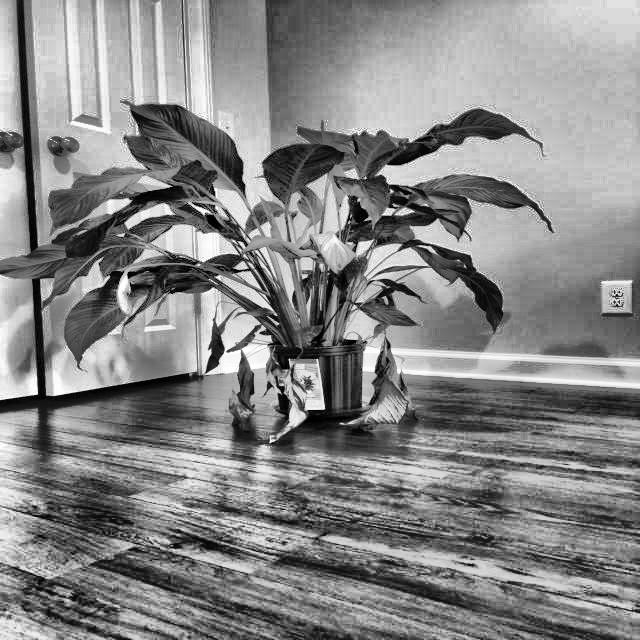plants: (55, 102, 548, 440), (194, 306, 314, 440), (343, 318, 428, 434)
